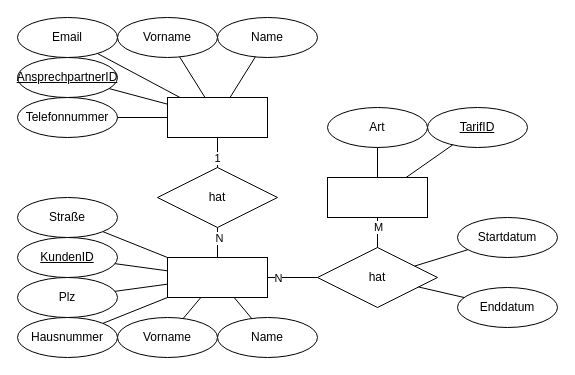
Some shapes in this 575 by 375 pixel diagram are drawn without their labels. The shapes that lost their labels are listed below. From the top down, each one's box as (x1, y1, x2, y2) in pixels, then its label:
(166, 96, 268, 138): Ansprechpartner
(326, 176, 428, 218): Tarif
(166, 256, 268, 298): Kunden
